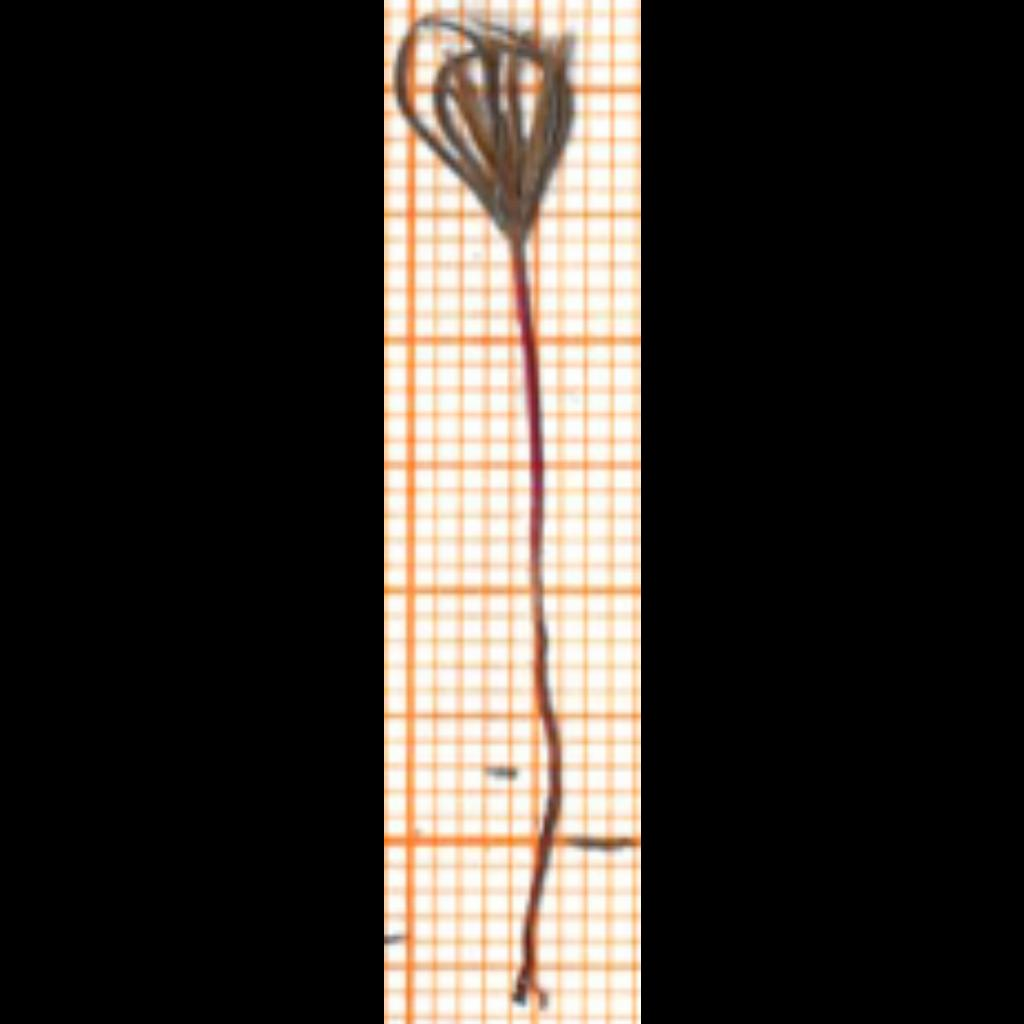flowerPinus: (398, 18, 574, 239)
stemPinus: (513, 249, 561, 1001)
